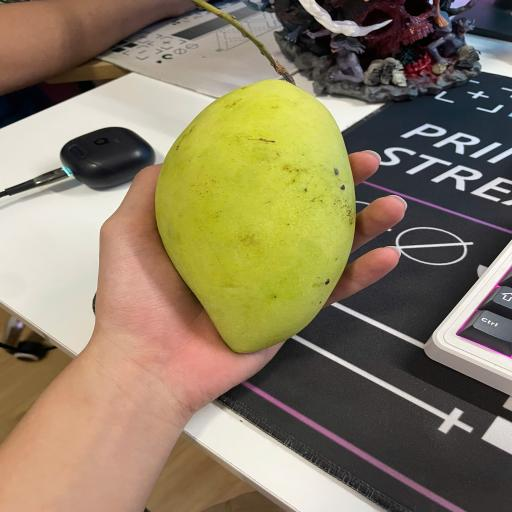xoai: (155, 80, 356, 352)
